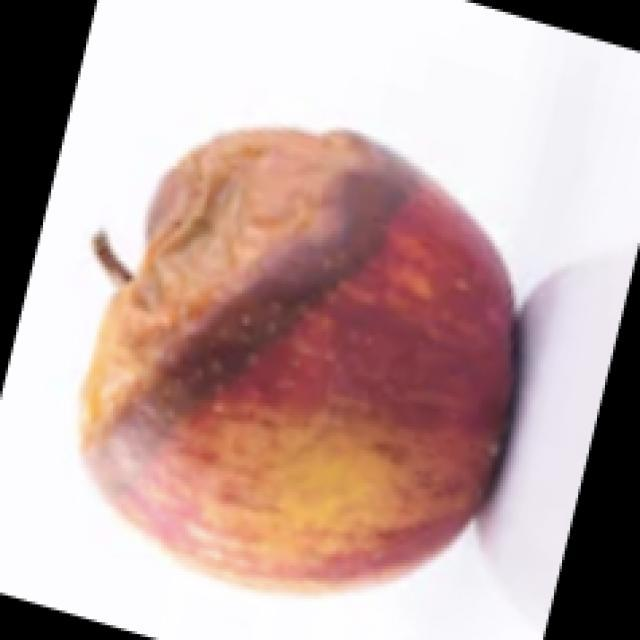Rotten: (108, 133, 531, 640)
